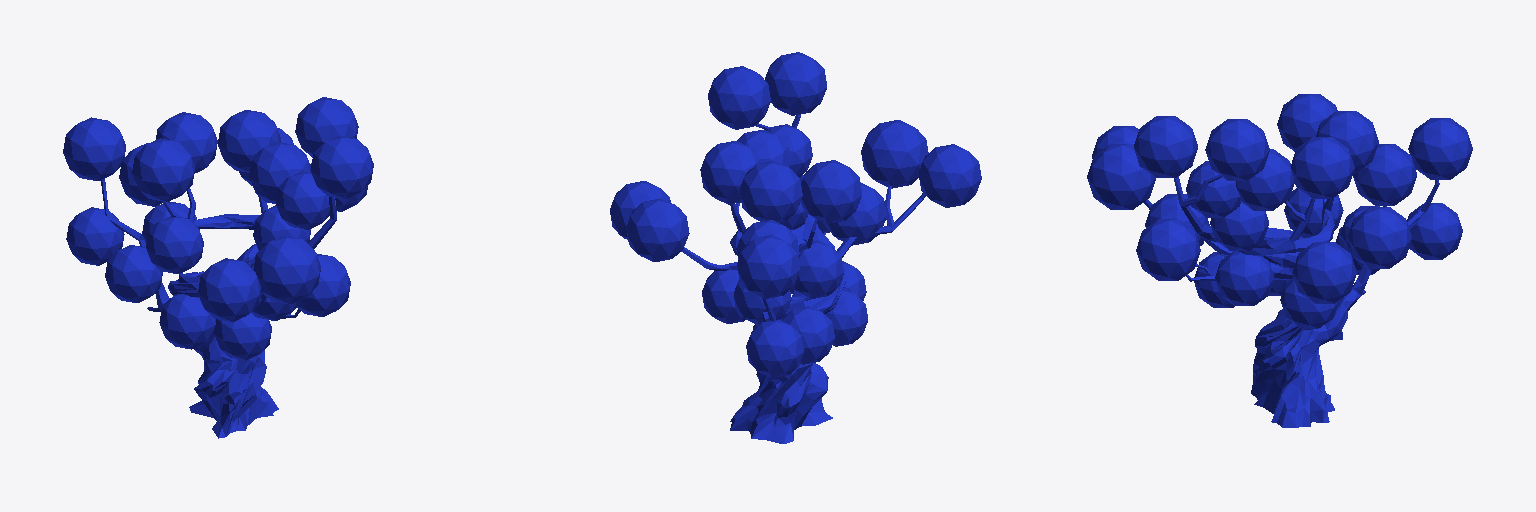
Rendered from big_fabulous_tree_001.obj.
The picture shows the model from 3 angles: view 1: azimuth 30°, elevation 25°; view 2: azimuth 150°, elevation 25°; view 3: azimuth 270°, elevation 25°; orthographic projection.
Visible parts, largest first — view 1: big_fabulous_tree_001; view 2: big_fabulous_tree_001; view 3: big_fabulous_tree_001.
Part boxes in pixels (x1,y1,x2,y2): big_fabulous_tree_001: (63,97,373,438); big_fabulous_tree_001: (610,52,981,443); big_fabulous_tree_001: (1087,94,1472,427).
Bounding box in the file's own units: 8.65 × 10.08 × 11.04.